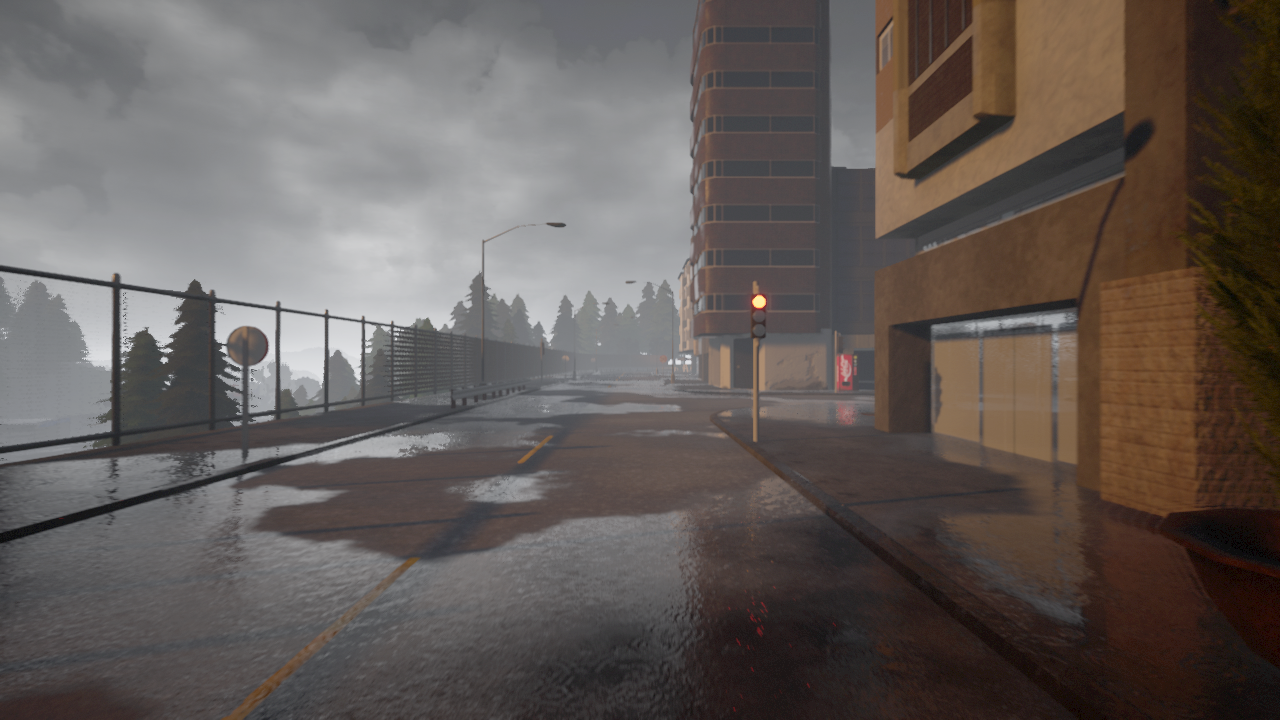red: (750, 292, 766, 336)
